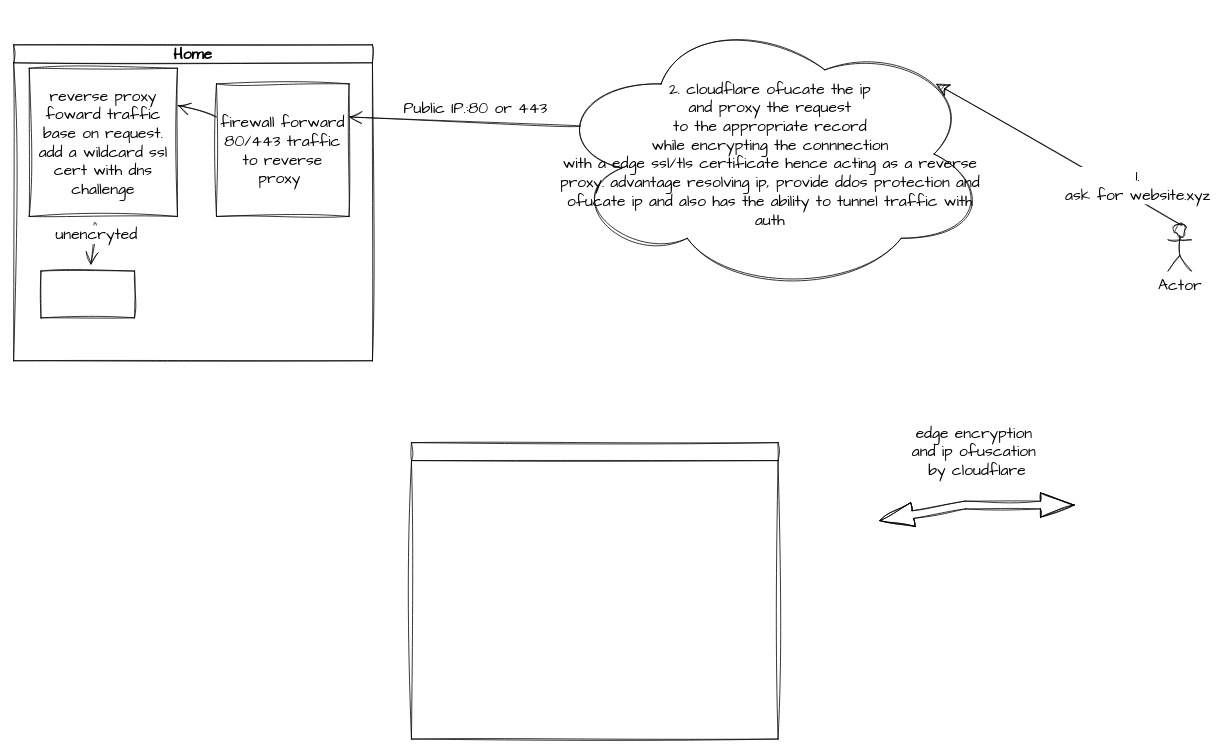
The diagram is 1224 pixels wide and 753 high, and some of its shapes have lost their labels. Here are the shapes that lost their labels. From the top down, the centre of each, then its label:
point (87, 294): webserver
point (594, 590): VPS
